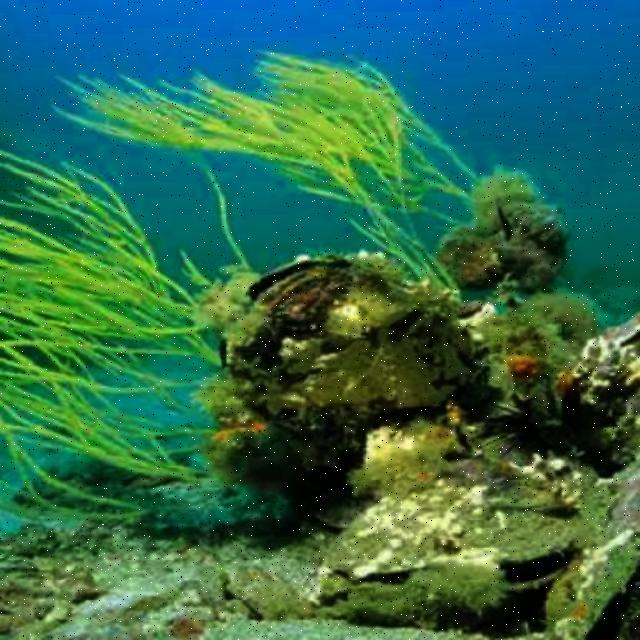Oyster-Open: (216, 250, 498, 468), (339, 466, 590, 602), (540, 537, 638, 638), (494, 191, 566, 288), (593, 318, 638, 359)
